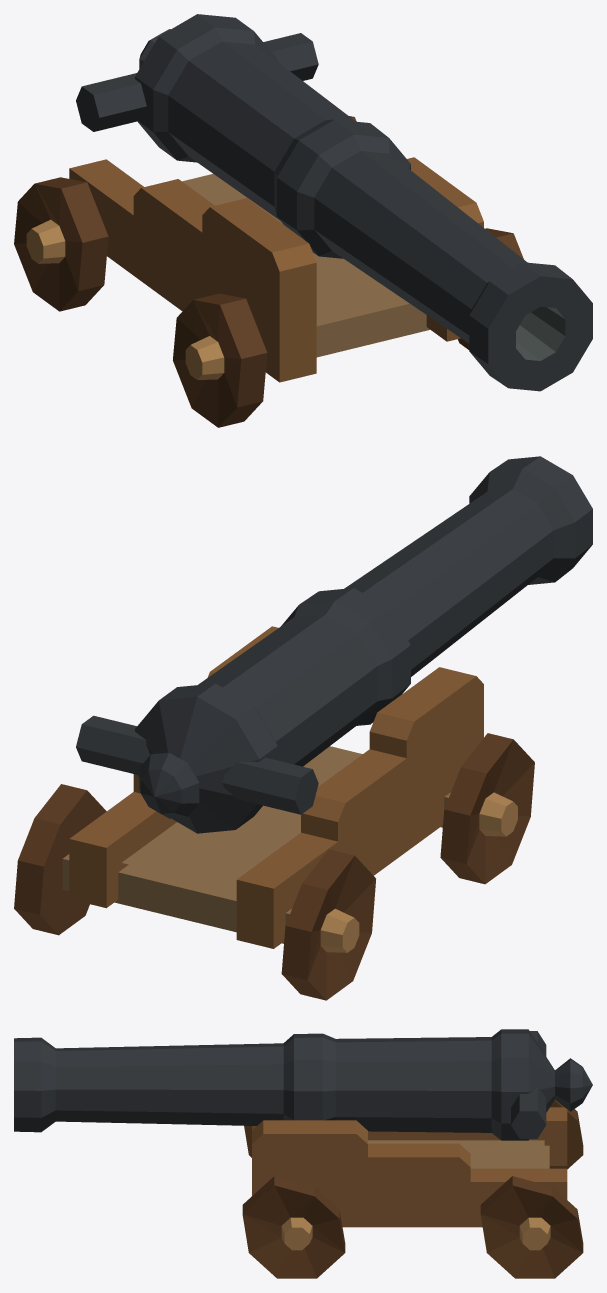
File: deck-cannon-17849e.glb
The picture shows the model from 3 angles, top to bottom: view 1: azimuth 30°, elevation 25°; view 2: azimuth 150°, elevation 25°; view 3: azimuth 270°, elevation 25°; orthographic projection. The views are drawn at different scales.
Visible parts, largest first — view 1: barrel-iron, carriage, truck-rr-mesh, truck-fr-mesh; view 2: barrel-iron, carriage, truck-fr-mesh, truck-rr-mesh, truck-rl-mesh; view 3: barrel-iron, carriage, truck-rl-mesh, truck-fl-mesh, truck-rr-mesh.
Part boxes in pixels (bbox=[...]): barrel-iron: bbox=[76, 14, 592, 391]; carriage: bbox=[69, 157, 483, 382]; truck-rr-mesh: bbox=[14, 177, 108, 311]; truck-fr-mesh: bbox=[173, 293, 267, 427]; barrel-iron: bbox=[76, 456, 592, 833]; carriage: bbox=[62, 626, 483, 948]; truck-fr-mesh: bbox=[440, 733, 534, 884]; truck-rr-mesh: bbox=[281, 849, 375, 1000]; truck-rl-mesh: bbox=[14, 784, 106, 935]; barrel-iron: bbox=[14, 1029, 592, 1140]; carriage: bbox=[252, 1107, 567, 1227]; truck-rl-mesh: bbox=[480, 1176, 583, 1278]; truck-fl-mesh: bbox=[242, 1176, 345, 1278]; truck-rr-mesh: bbox=[549, 1100, 583, 1169].
Bounding box in the file's own units: 0.85 × 0.656 × 1.8.
